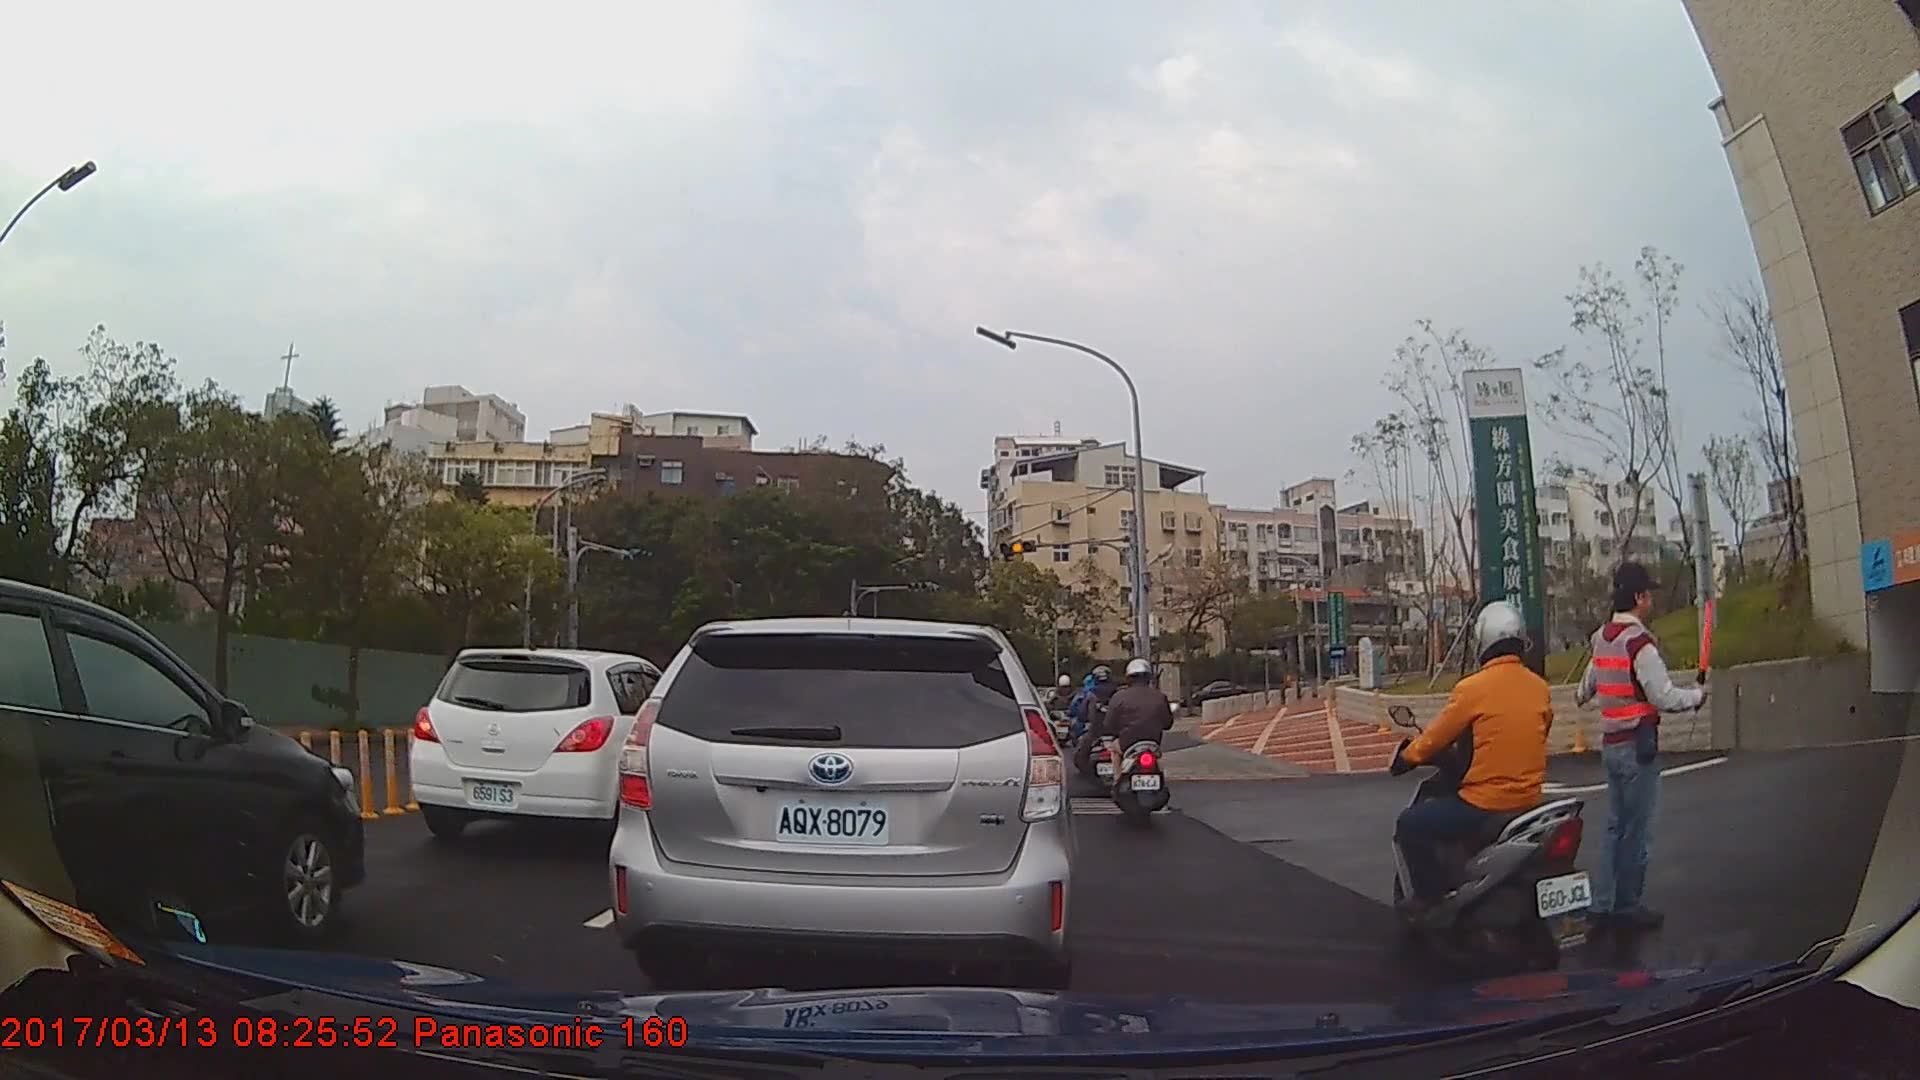pedestrian: (1569, 565, 1720, 933)
rider: (1388, 597, 1597, 982), (1109, 652, 1181, 838), (1077, 666, 1124, 792), (1046, 671, 1076, 753)
vehicle: (608, 618, 1071, 983), (0, 575, 366, 958), (408, 648, 713, 846), (1182, 677, 1250, 710)
